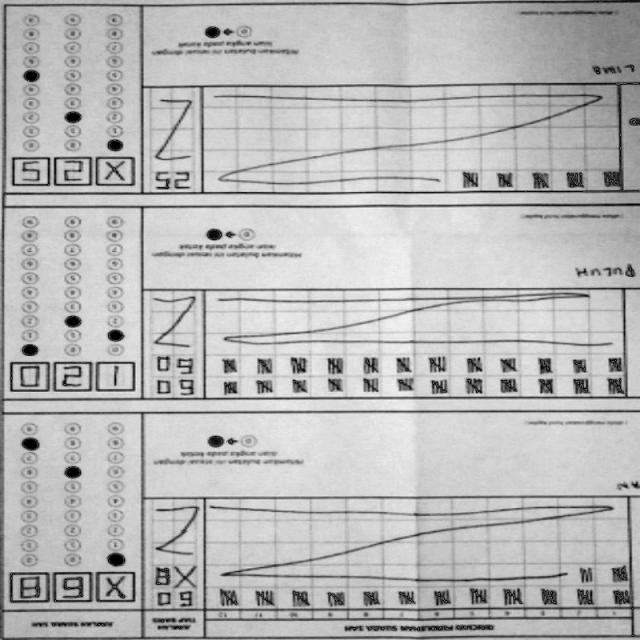Suara: (13, 152, 142, 190), (16, 573, 137, 610), (13, 368, 138, 394)
